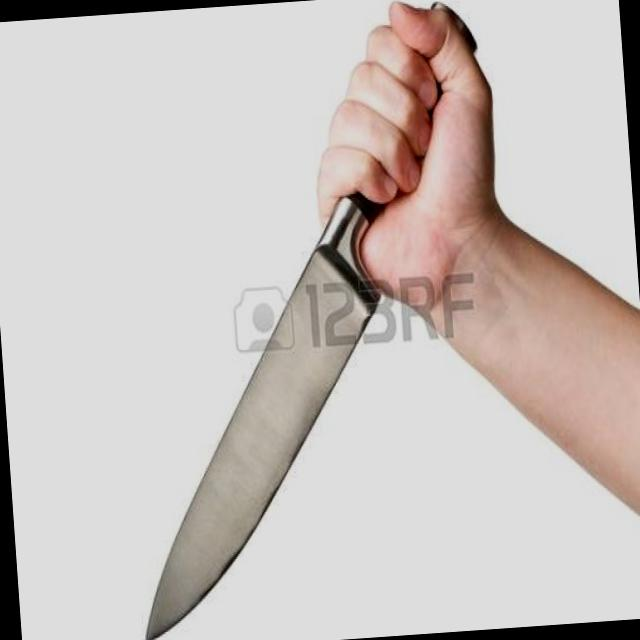knife: (98, 71, 477, 639)
